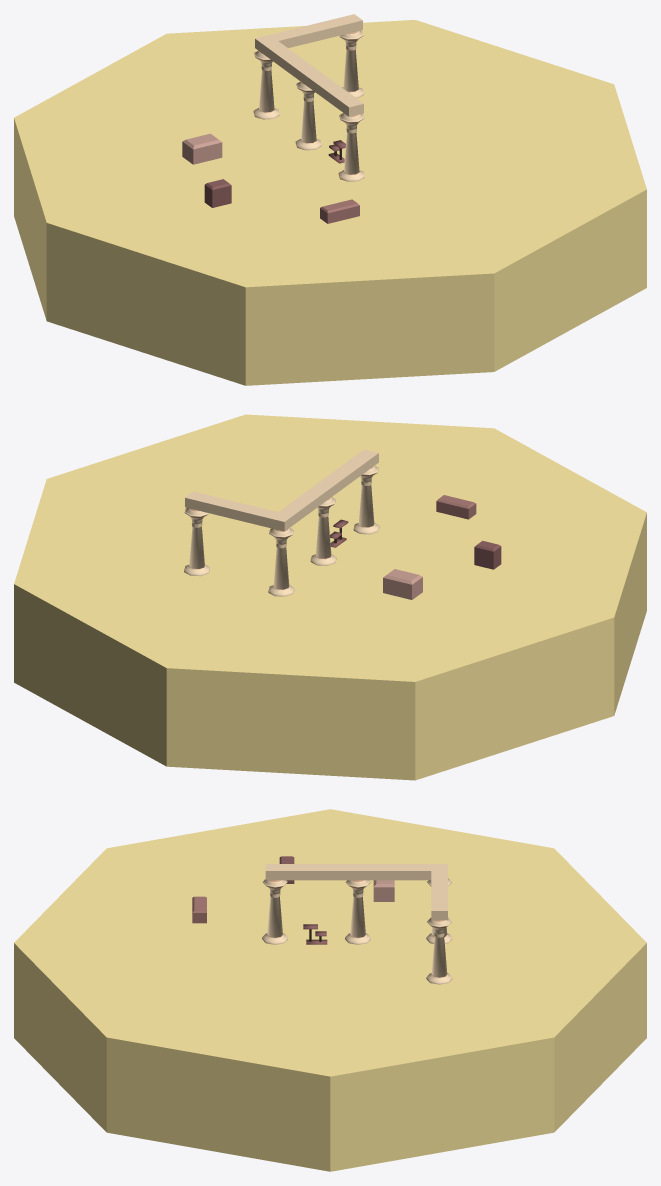
Rendered from Dessert.fbx.
The picture shows the model from 3 angles, top to bottom: view 1: azimuth 30°, elevation 25°; view 2: azimuth 150°, elevation 25°; view 3: azimuth 270°, elevation 25°; orthographic projection. The views are drawn at different scales.
Parts seen in each view (by area): view 1: Base Dessert, Union Pilares, Pilar Egipcio.002, Obstáculo 1, Pilar Egipcio.003, Pilar Egipcio.001, Pilar Egipcio.006, Obstáculo 1.001, Obstáculo 2; view 2: Base Dessert, Union Pilares, Pilar Egipcio.001, Pilar Egipcio.006, Pilar Egipcio.002, Obstáculo 1, Pilar Egipcio.003, Obstáculo 1.001, Obstáculo 2; view 3: Base Dessert, Union Pilares, Pilar Egipcio.006, Pilar Egipcio.002, Pilar Egipcio.003.
Boxes of the visible parts, x1,y1,x2,y2 form: Base Dessert: [14, 20, 646, 385]; Union Pilares: [255, 14, 363, 116]; Pilar Egipcio.002: [338, 113, 364, 181]; Obstáculo 1: [182, 133, 222, 164]; Pilar Egipcio.003: [295, 81, 321, 150]; Pilar Egipcio.001: [253, 50, 279, 119]; Pilar Egipcio.006: [339, 30, 363, 98]; Obstáculo 1.001: [320, 199, 359, 223]; Obstáculo 2: [204, 179, 231, 207]; Base Dessert: [14, 414, 646, 780]; Union Pilares: [185, 449, 378, 531]; Pilar Egipcio.001: [268, 528, 294, 596]; Pilar Egipcio.006: [184, 508, 209, 576]; Pilar Egipcio.002: [353, 465, 379, 534]; Obstáculo 1: [383, 569, 422, 599]; Pilar Egipcio.003: [310, 497, 336, 565]; Obstáculo 1.001: [436, 495, 476, 519]; Obstáculo 2: [474, 540, 501, 569]; Base Dessert: [14, 809, 646, 1171]; Union Pilares: [265, 864, 447, 920]; Pilar Egipcio.006: [426, 918, 452, 984]; Pilar Egipcio.002: [262, 879, 287, 944]; Pilar Egipcio.003: [345, 880, 370, 944].
Size of the model in its own units: 13990 by 4071 by 13990.
